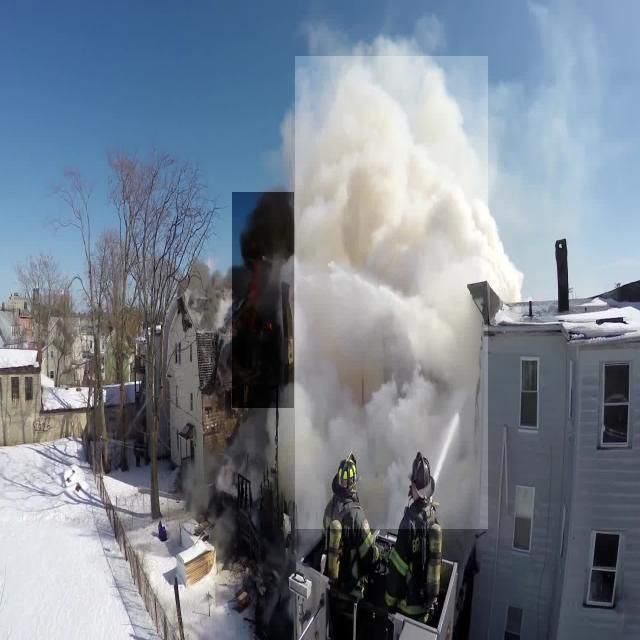Fire: (242, 252, 272, 340)
Smoke: (295, 56, 488, 529), (232, 192, 294, 408)
